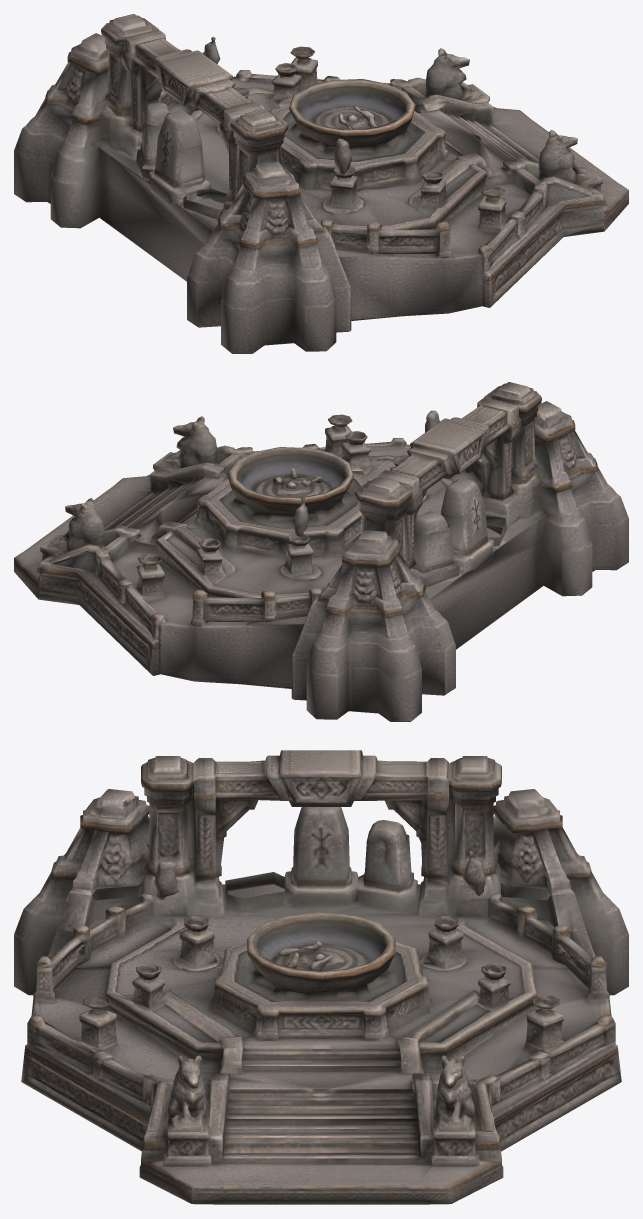
File: ocak-sv40.glb
The picture shows the model from 3 angles, top to bottom: view 1: azimuth 30°, elevation 25°; view 2: azimuth 150°, elevation 25°; view 3: azimuth 270°, elevation 25°; orthographic projection. The views are drawn at different scales.
Visible parts, largest first — view 1: tripo_node_10aa60f4-a2f2-47da-8d31-83dda162095c; view 2: tripo_node_10aa60f4-a2f2-47da-8d31-83dda162095c; view 3: tripo_node_10aa60f4-a2f2-47da-8d31-83dda162095c.
Part boxes in pixels (x1,y1,x2,y2): tripo_node_10aa60f4-a2f2-47da-8d31-83dda162095c: [14, 14, 628, 353]; tripo_node_10aa60f4-a2f2-47da-8d31-83dda162095c: [14, 382, 628, 721]; tripo_node_10aa60f4-a2f2-47da-8d31-83dda162095c: [14, 750, 628, 1204].
Size of the model in its own units: 0.998 by 0.4012 by 0.9961.
Materials: 1 (1 with a texture image).
